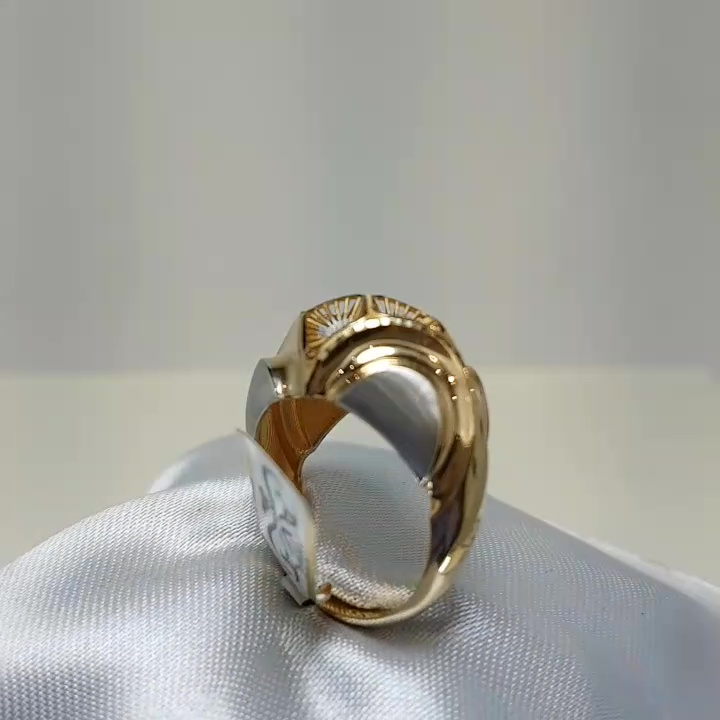Ring 2: (185, 255, 518, 639)
